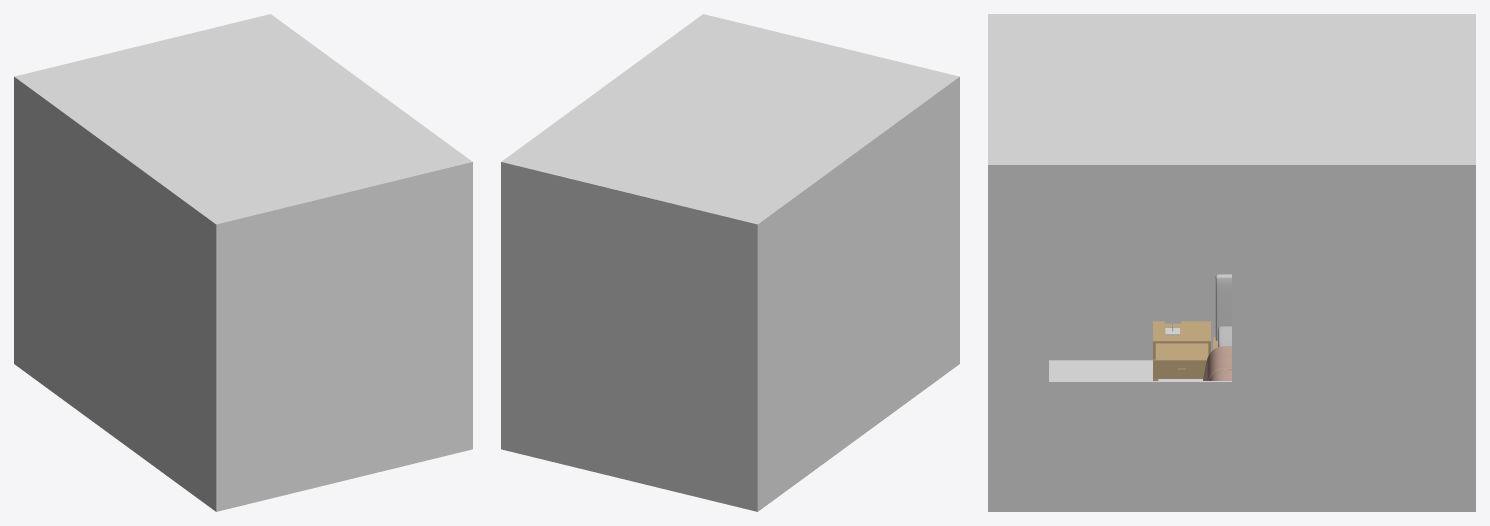
The picture shows the model from 3 angles, left to right: view 1: azimuth 30°, elevation 25°; view 2: azimuth 150°, elevation 25°; view 3: azimuth 270°, elevation 25°; orthographic projection. The views are drawn at different scales.
Visible parts, largest first — view 1: Cube.006; view 2: Cube.006; view 3: Cube.006, Cube.004, Cube.008, Cube.003, Plane.001.
Boxes of the visible parts, bbox=[...] form: Cube.006: bbox=[14, 14, 472, 511]; Cube.006: bbox=[501, 14, 959, 511]; Cube.006: bbox=[988, 14, 1475, 511]; Cube.004: bbox=[1153, 321, 1210, 380]; Cube.008: bbox=[1164, 252, 1180, 323]; Cube.003: bbox=[1215, 274, 1231, 340]; Plane.001: bbox=[1203, 346, 1231, 380].
Bounding box in the file's own units: 347 × 372 × 473.
